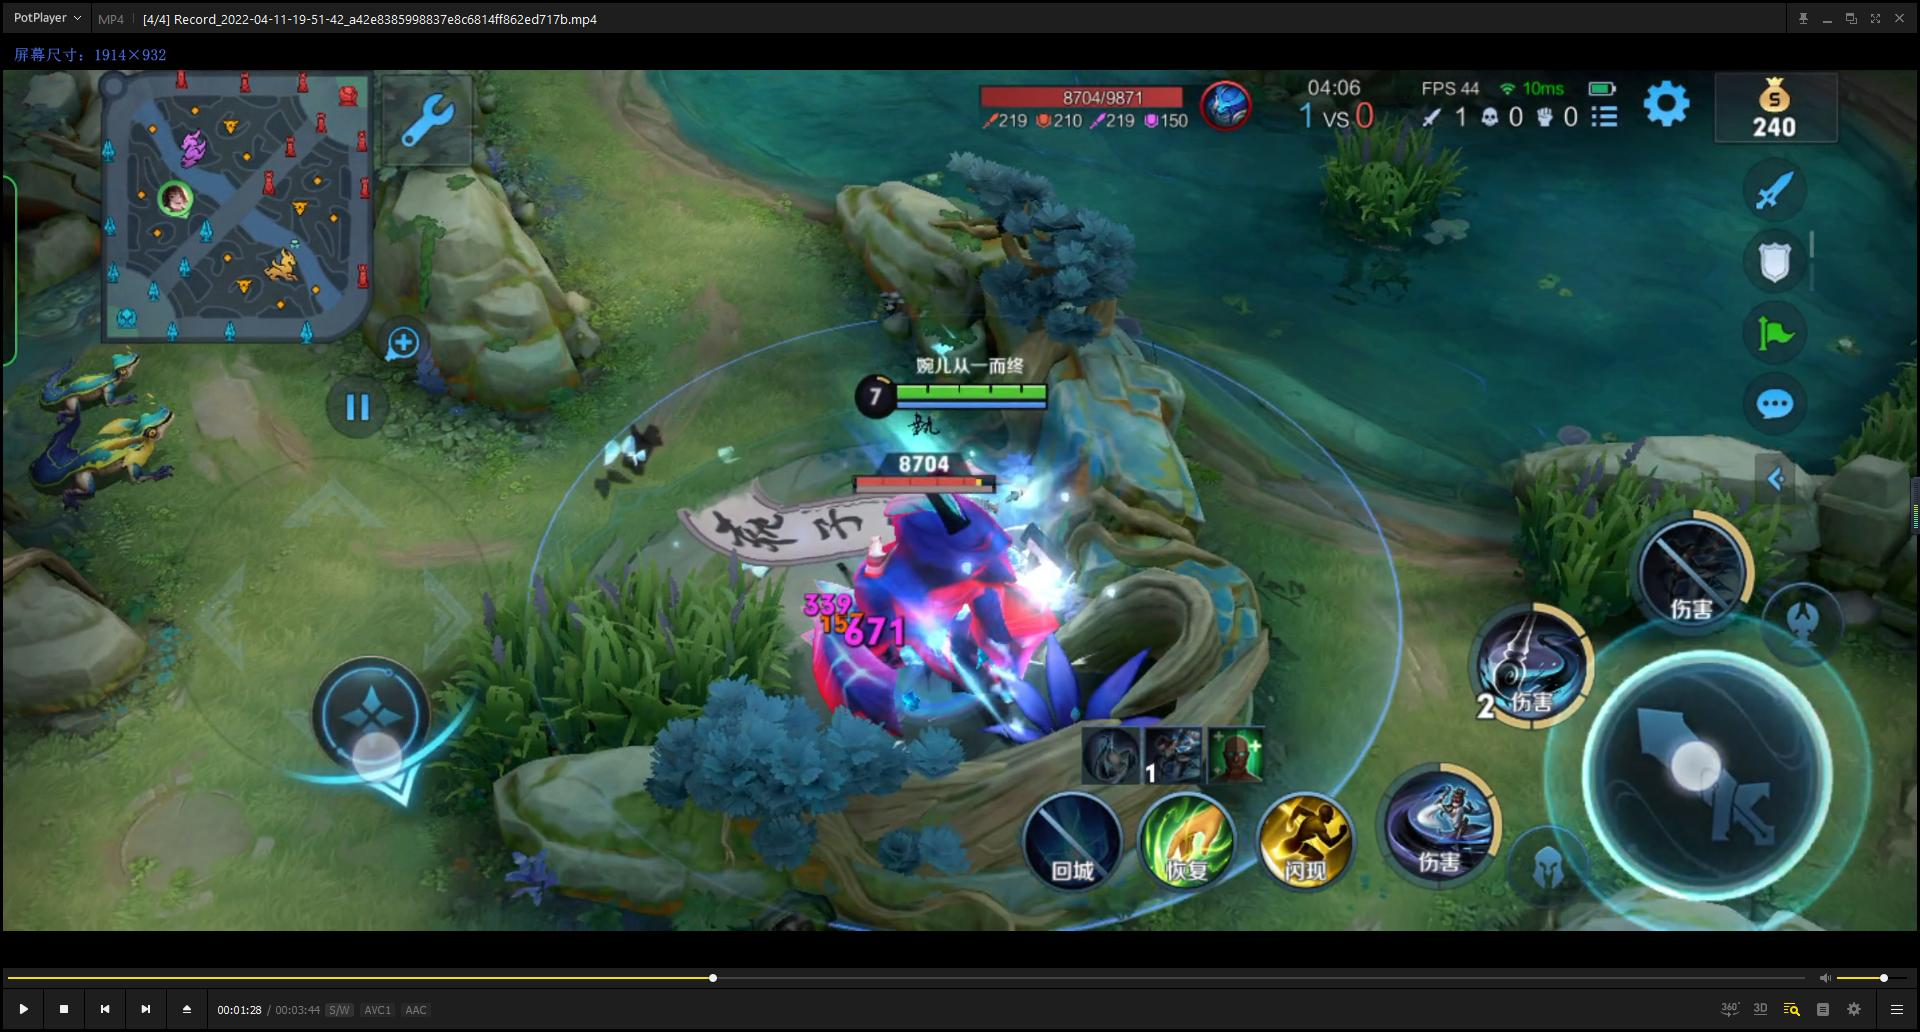Buff: (776, 436, 1070, 731)
Hero: (883, 426, 1123, 644)
Lizard: (27, 394, 222, 525), (18, 336, 160, 438)
